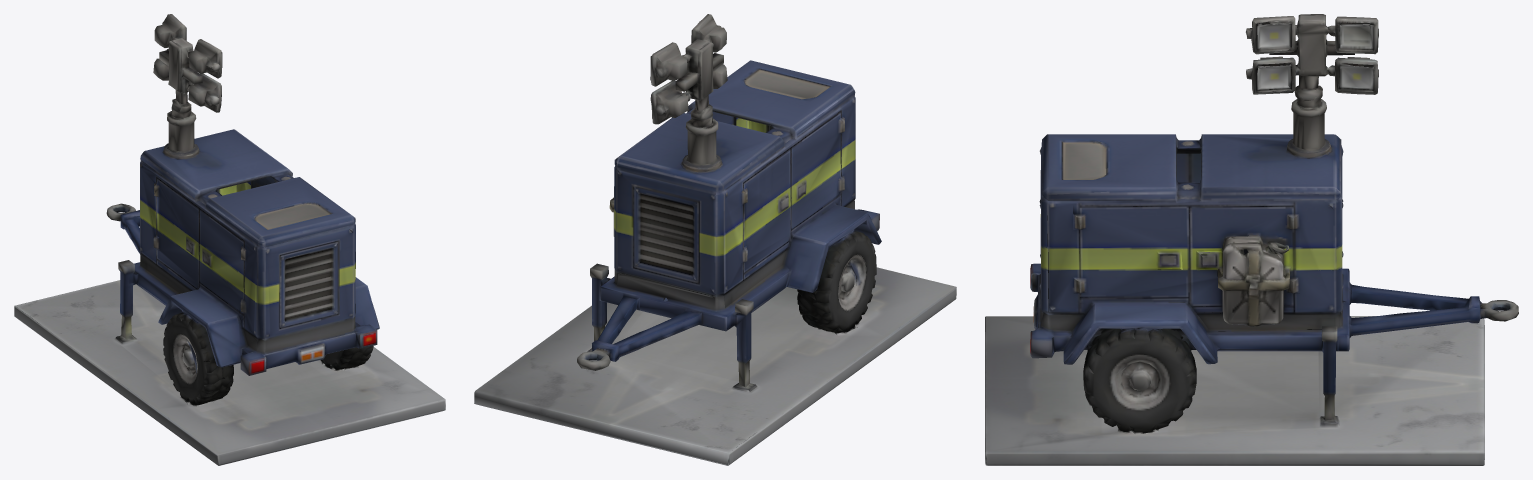
3 renders of one model, left to right at view 1: azimuth 30°, elevation 25°; view 2: azimuth 150°, elevation 25°; view 3: azimuth 270°, elevation 25°, orthographic. The views are drawn at different scales.
Parts seen in each view (by area): view 1: repaired; view 2: repaired; view 3: repaired.
Part boxes in pixels (x1,y1,x2,y2): repaired: (14, 14, 445, 465); repaired: (474, 14, 956, 465); repaired: (985, 14, 1518, 465).
Bounding box in the file's own units: 0.6039 × 0.7816 × 0.9989.
1 material, 1 textured.
